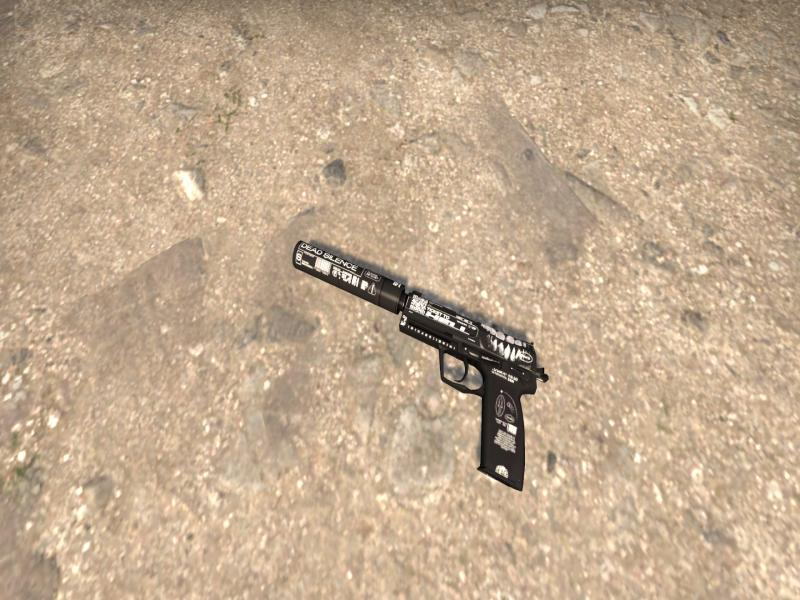USP: (293, 241, 549, 490)
